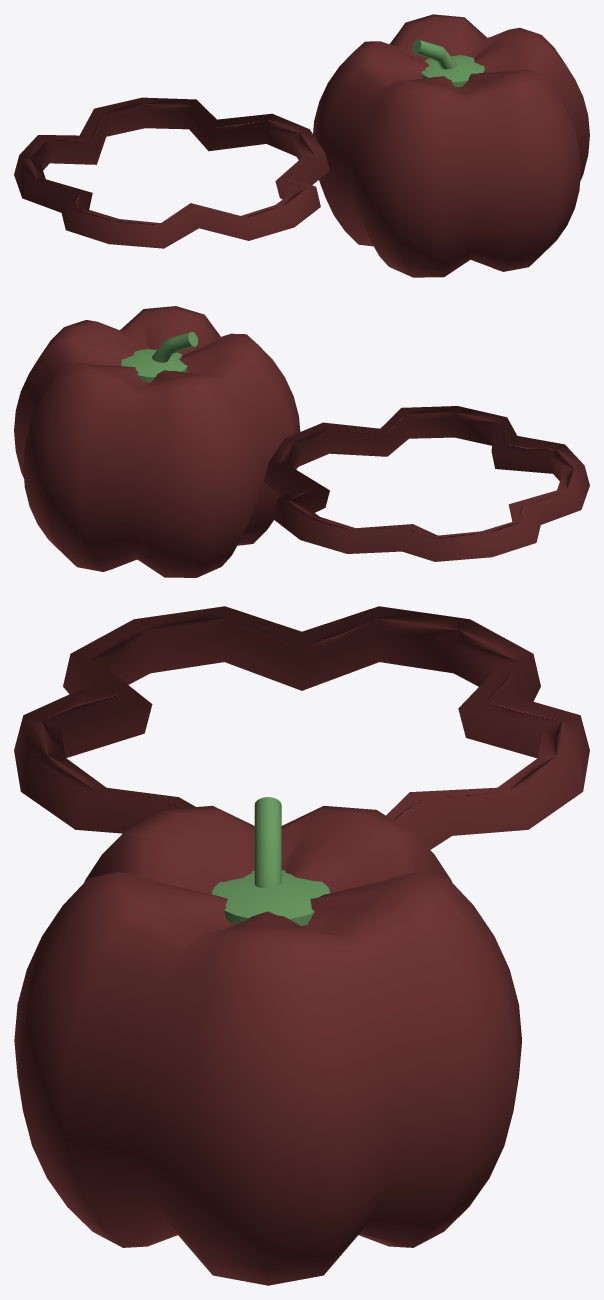
Rendered from Bell Pepper.fbx.
3 renders of one model, top to bottom at view 1: azimuth 30°, elevation 25°; view 2: azimuth 150°, elevation 25°; view 3: azimuth 270°, elevation 25°, orthographic. The views are drawn at different scales.
Visible parts, largest first — view 1: pSphere2 (×2), pCylinder43, pCylinder42; view 2: pSphere2 (×2), pCylinder43, pCylinder42; view 3: pSphere2 (×2), pCylinder43, pCylinder42.
Boxes of the visible parts, <box> form: pSphere2 (×2): <box>14,14,589,277</box>; pCylinder43: <box>421,55,484,86</box>; pCylinder42: <box>412,39,456,69</box>; pSphere2 (×2): <box>14,306,589,577</box>; pCylinder43: <box>121,349,187,382</box>; pCylinder42: <box>152,332,197,362</box>; pSphere2 (×2): <box>14,606,589,1285</box>; pCylinder43: <box>211,870,330,925</box>; pCylinder42: <box>254,797,281,888</box>.
Bounding box in the file's own units: 35.35 × 13.57 × 18.36.
